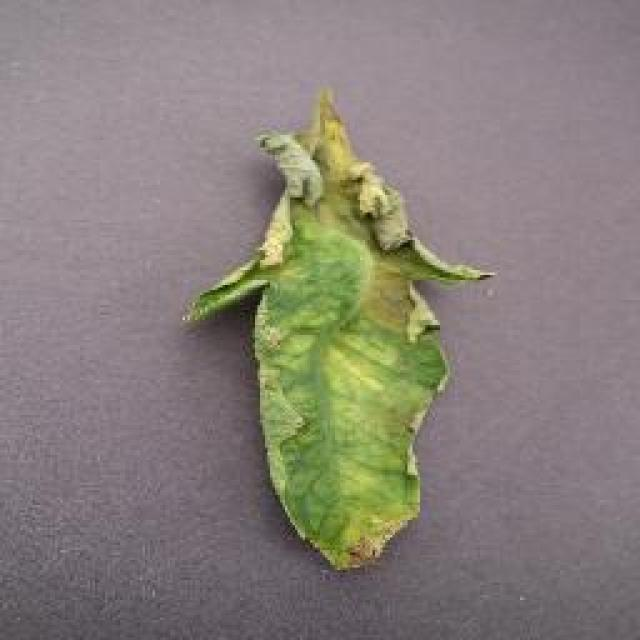Tomato Late Blight: (238, 119, 455, 378)
